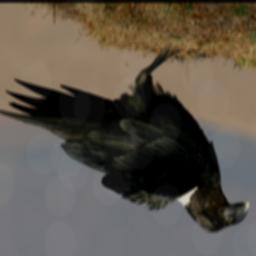Crow: (0, 41, 254, 236)
